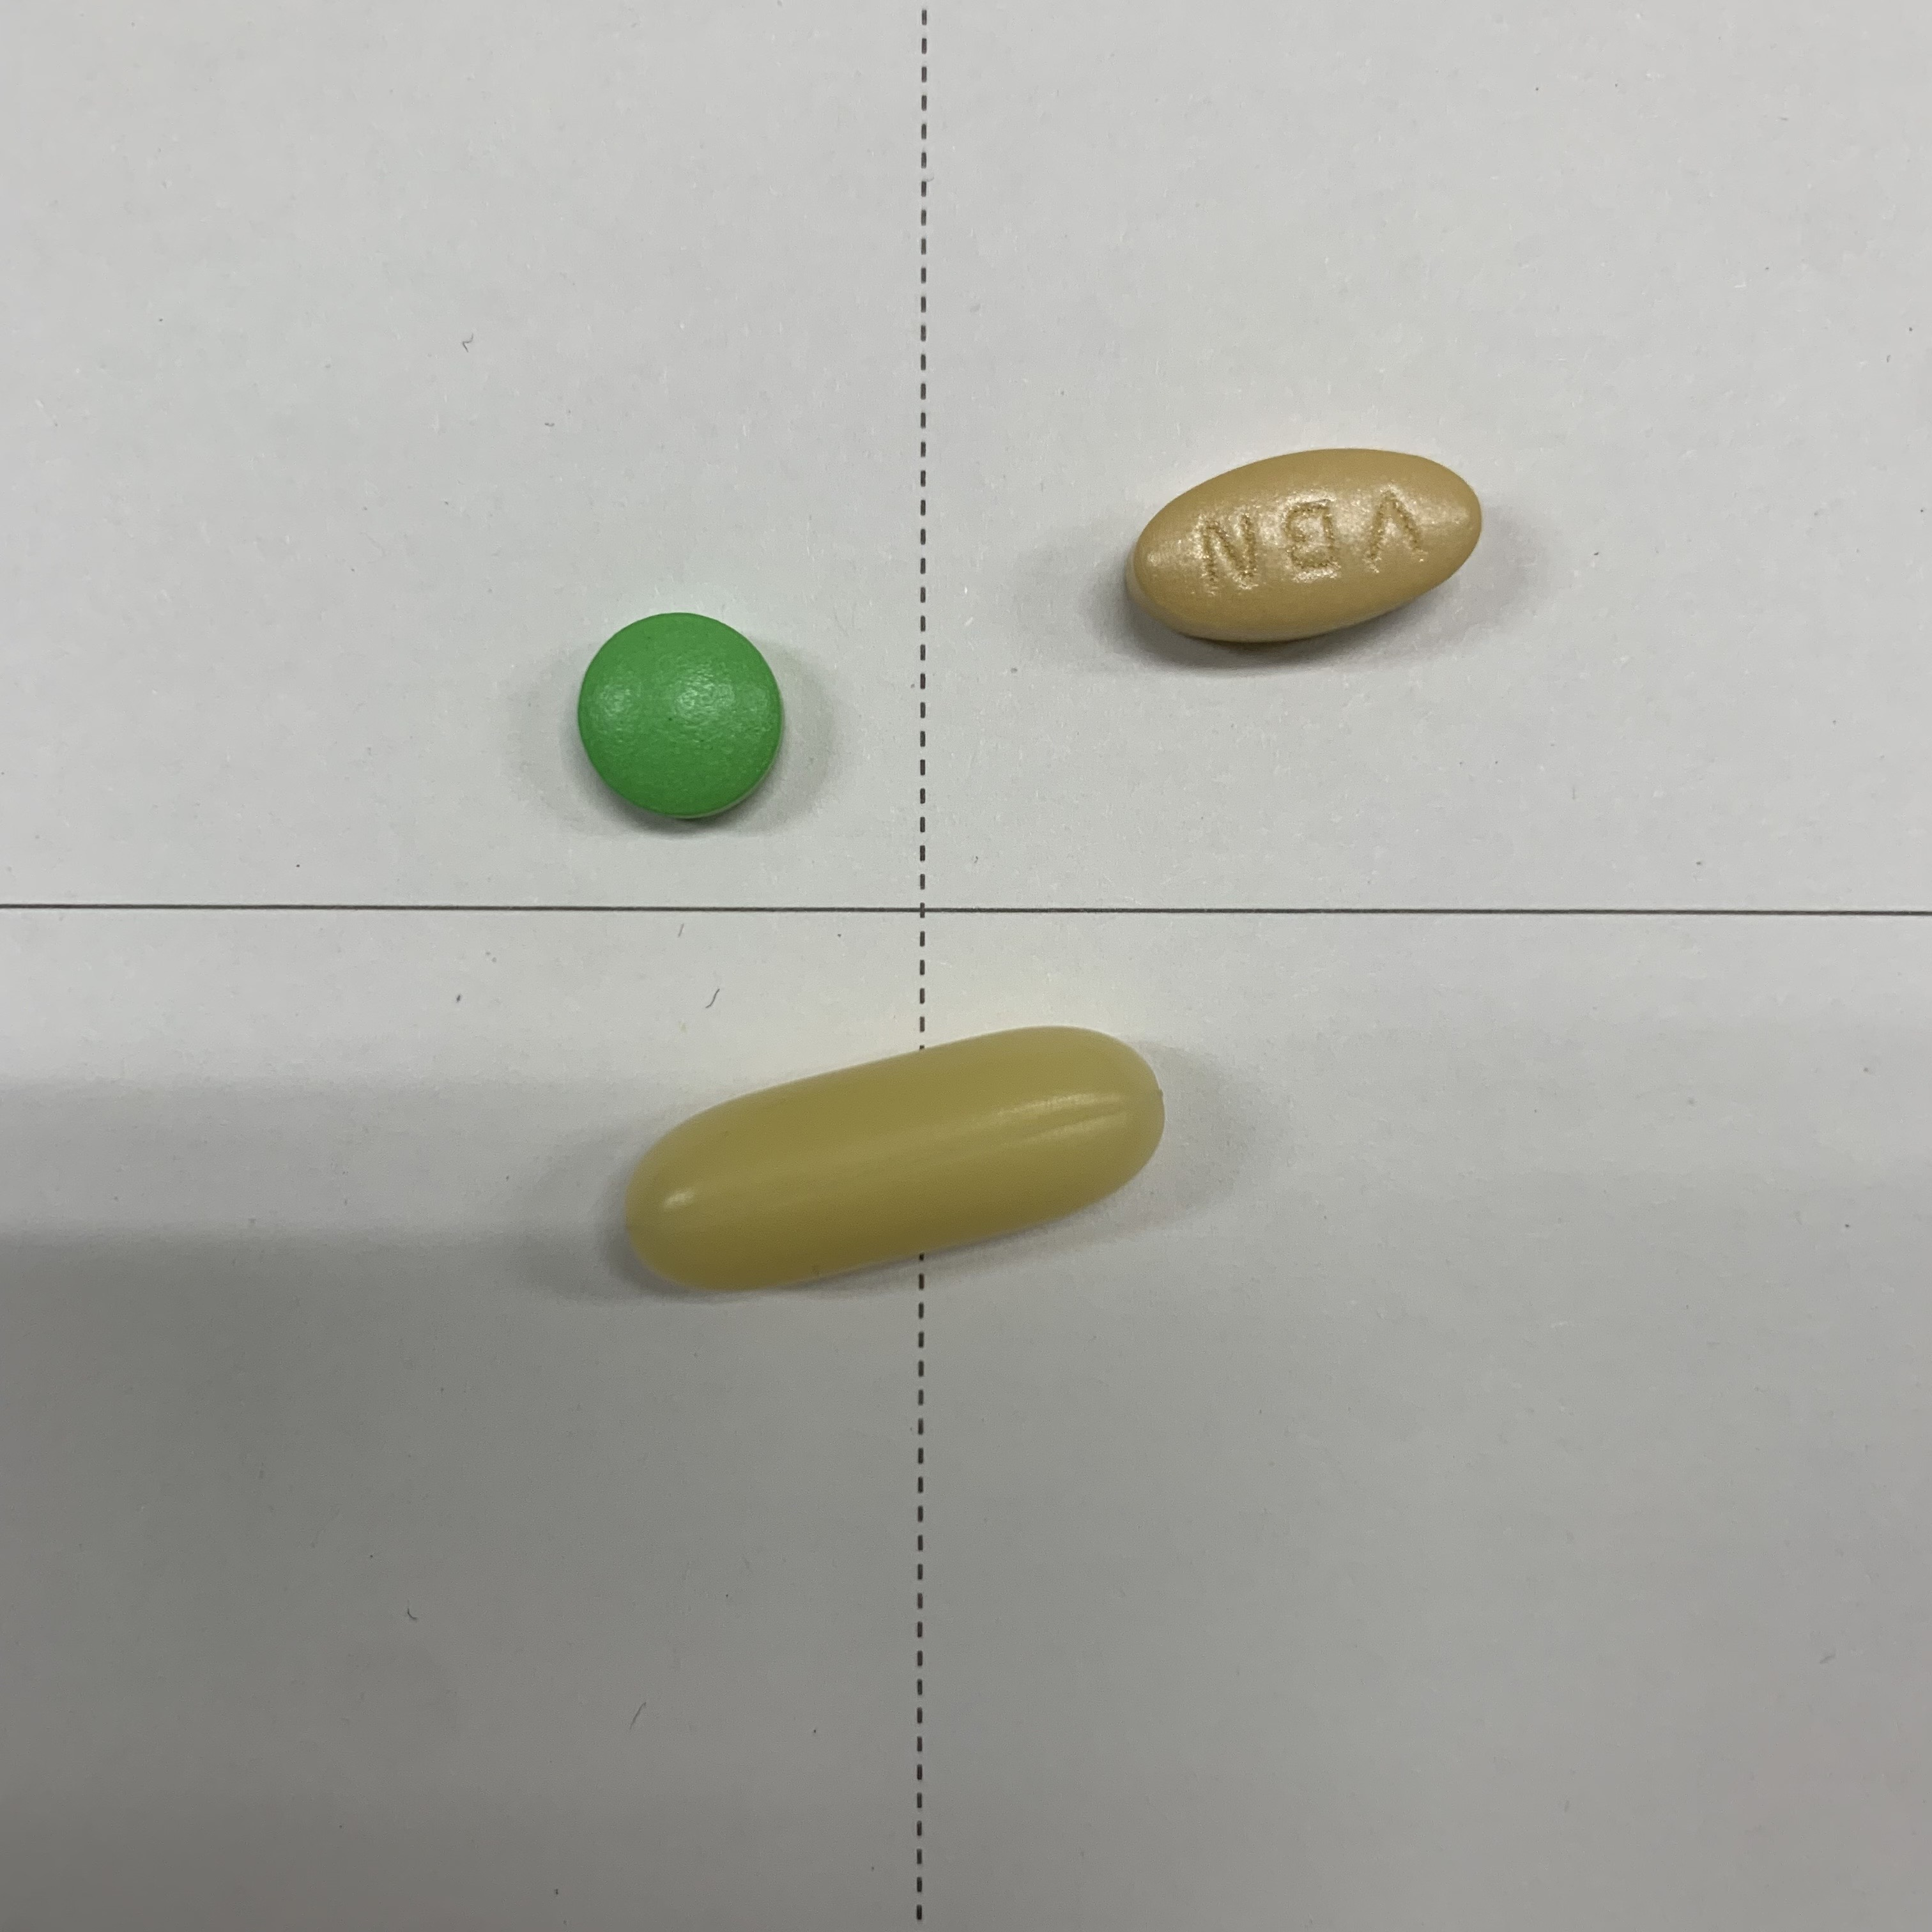cir_drug: (557, 598, 805, 842)
oval_drug: (1111, 435, 1500, 662)
rec_drug: (586, 1016, 1194, 1299)
